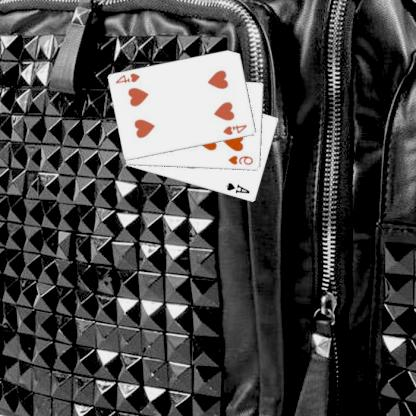4H: (222, 122, 250, 137), (115, 71, 143, 85)
9H: (228, 154, 256, 166)
AS: (226, 180, 253, 195)
